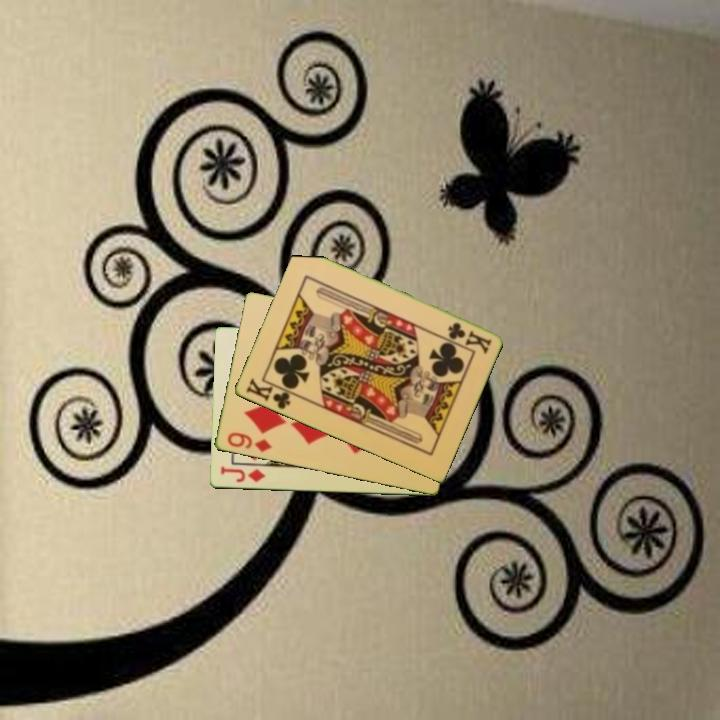9d: (223, 429, 275, 456)
Jd: (217, 463, 267, 485)
Kc: (242, 375, 299, 412), (444, 319, 494, 355)
